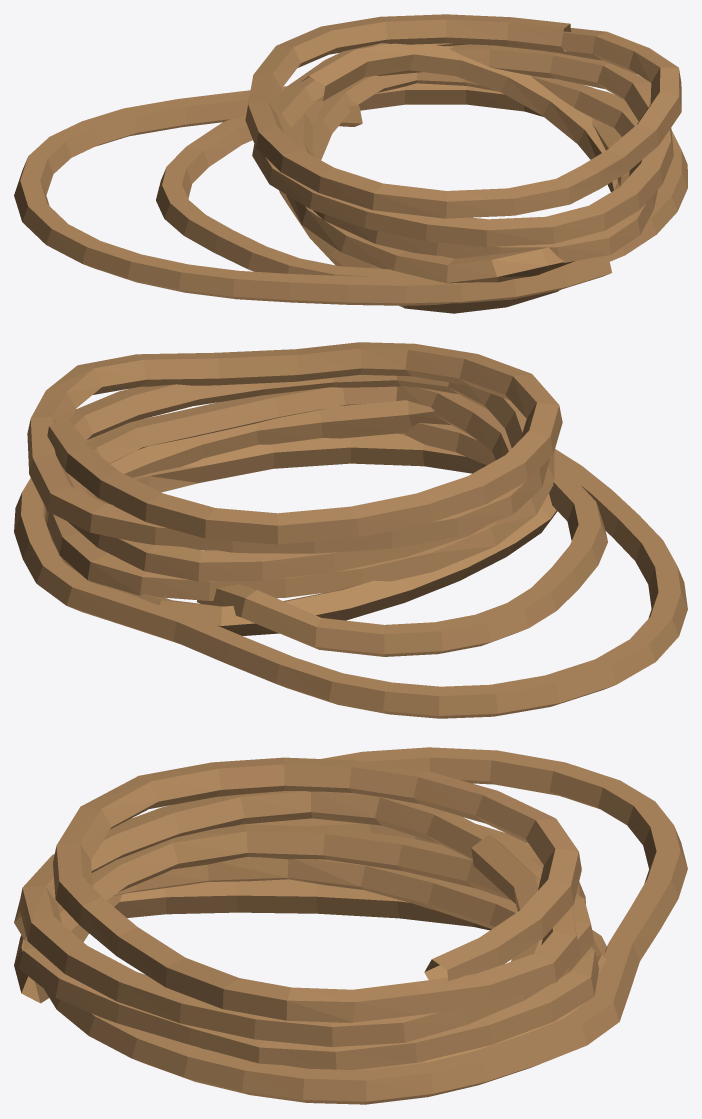
Rendered from String_005.fbx.
3 renders of one model, top to bottom at view 1: azimuth 30°, elevation 25°; view 2: azimuth 150°, elevation 25°; view 3: azimuth 270°, elevation 25°, orthographic. The views are drawn at different scales.
Visible parts, largest first — view 1: String_005; view 2: String_005; view 3: String_005.
Boxes of the visible parts, x1,y1,x2,y2 form: String_005: [14, 14, 687, 313]; String_005: [14, 342, 687, 718]; String_005: [14, 747, 687, 1104].
Bounding box in the file's own units: 1.18 × 0.2266 × 0.988.
